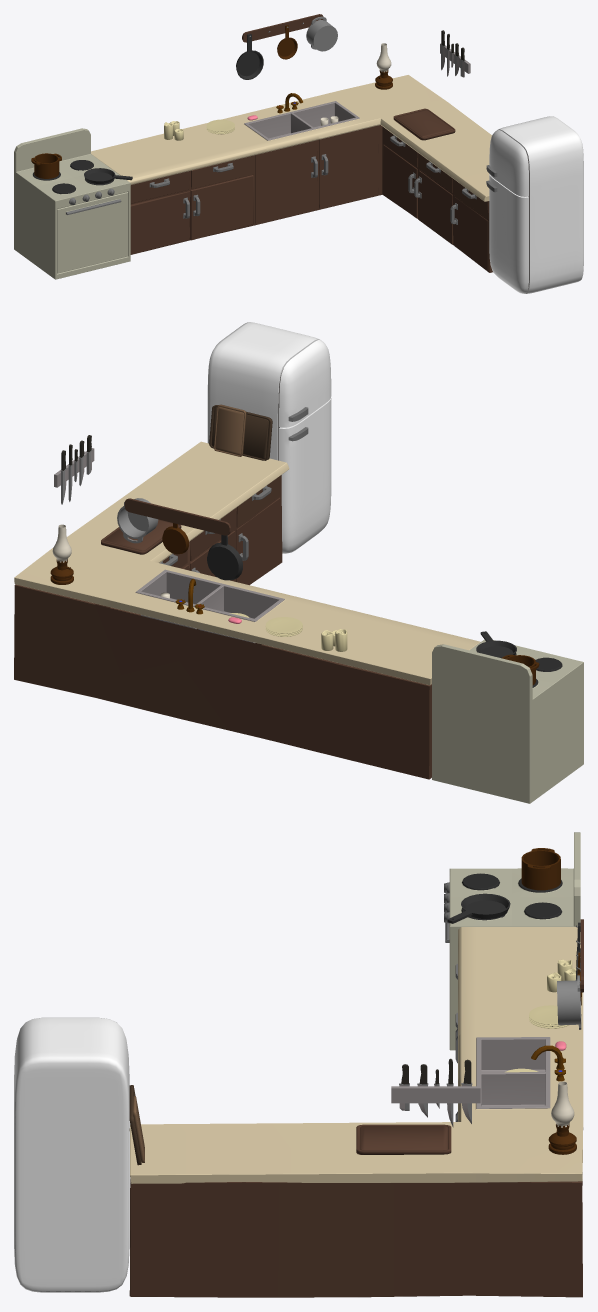
Rendered from kitchen.glb.
The picture shows the model from 3 angles, top to bottom: view 1: azimuth 30°, elevation 25°; view 2: azimuth 150°, elevation 25°; view 3: azimuth 270°, elevation 25°; orthographic projection. The views are drawn at different scales.
Parts seen in each view (by area): view 1: counter, Fridge, stove, cutting board counter 1, pan rack 3, pan holder, pan rack 1, pot stove 1, oil lamp, pot stove 2, pan rack 2, plate stack; view 2: counter, stove, Fridge, pan holder, cuttingboard side 2, cuttingboard side 1, pan rack 1, cutting board counter 1, pan rack 3, oil lamp, plate stack, pot stove 2 (+1 smaller); view 3: counter, Fridge, stove, cutting board counter 1, knife magnet, pot stove 1, oil lamp, pot stove 2, pan rack 3, plate stack.
Part boxes in pixels (x1,y1,x2,y2): counter: (91,75,492,272); Fridge: (486,116,583,293); stove: (14,128,130,279); cutting board counter 1: (393,108,455,140); pan rack 3: (306,16,337,51); pan holder: (242,14,323,42); pan rack 1: (236,33,263,79); pot stove 1: (31,153,61,178); oil lamp: (375,43,392,89); pot stove 2: (84,168,132,183); pan rack 2: (277,25,297,59); plate stack: (206,119,234,134); counter: (14,441,480,779); stove: (432,639,583,803); Fridge: (207,322,331,553); pan holder: (124,498,230,535); cuttingboard side 2: (209,405,272,460); cuttingboard side 1: (214,404,246,456); pan rack 1: (207,535,242,580); cutting board counter 1: (101,519,181,554); pan rack 3: (117,498,158,543); oil lamp: (50,524,73,584); plate stack: (265,617,302,636); pot stove 2: (476,631,516,658); counter: (129,927,583,1297); Fridge: (14,1017,129,1292); stove: (444,832,580,1050); cutting board counter 1: (356,1124,451,1154); knife magnet: (391,1086,480,1103); pot stove 1: (521,848,560,890); oil lamp: (548,1081,576,1154); pot stove 2: (447,893,510,923); pan rack 3: (557,975,581,1029); plate stack: (529,1005,569,1028).
Bounding box in the file's own units: 5.1 × 1.97 × 4.03.
